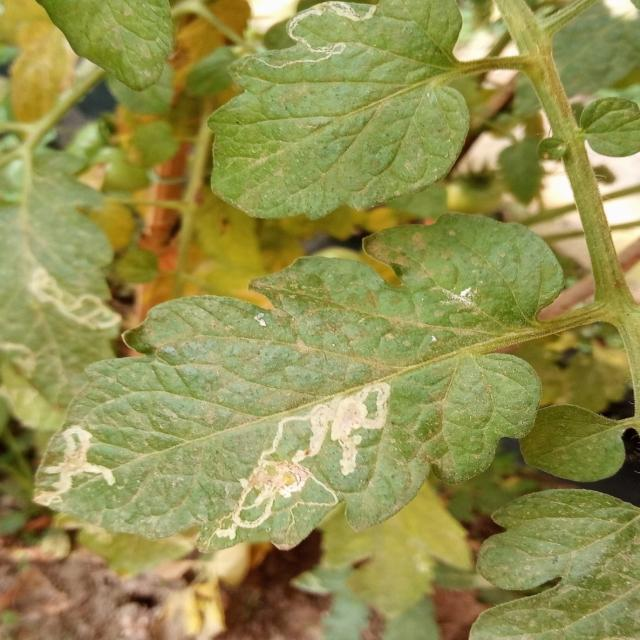Tuta absoluta: (206, 346, 405, 580), (12, 420, 117, 522), (22, 263, 124, 341), (278, 0, 382, 67)
